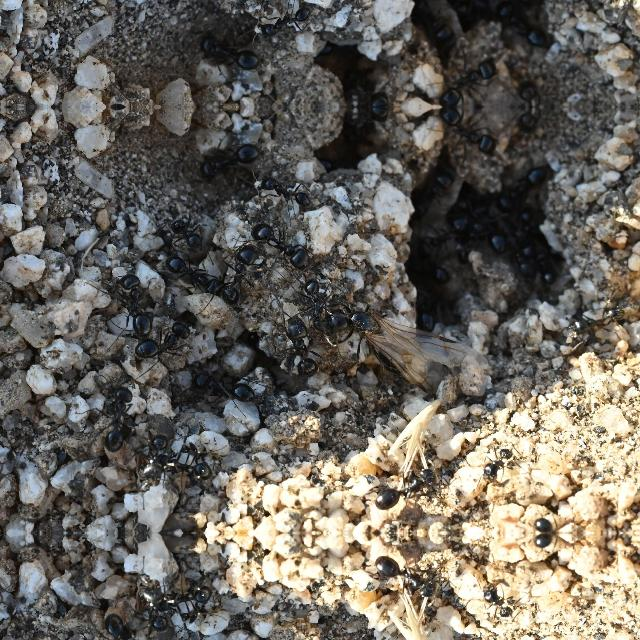Messor: (321, 292, 451, 380), (248, 214, 322, 280), (109, 259, 159, 339), (214, 240, 268, 314), (425, 106, 499, 160), (425, 52, 499, 106), (162, 247, 226, 309), (178, 362, 262, 406), (268, 316, 329, 376), (370, 464, 442, 514), (370, 551, 442, 601), (192, 138, 268, 182), (132, 316, 195, 368), (192, 31, 268, 74), (148, 434, 215, 482), (148, 583, 215, 631), (95, 374, 134, 456), (564, 296, 622, 342), (504, 5, 556, 54), (504, 158, 556, 206), (471, 570, 517, 624), (471, 442, 517, 494), (166, 215, 218, 257), (259, 172, 315, 206), (259, 6, 315, 40), (299, 272, 329, 330), (140, 430, 166, 488), (140, 578, 166, 634), (94, 608, 133, 640), (524, 508, 562, 532), (524, 534, 562, 556)
